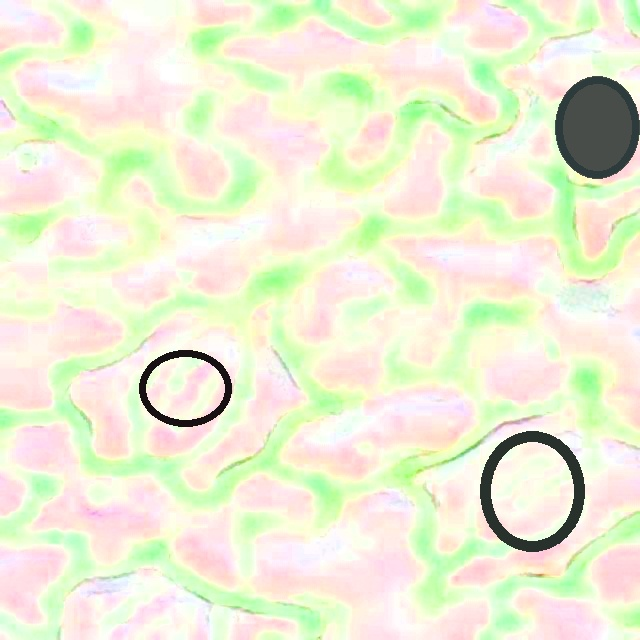close: (479, 431, 586, 551)
open: (555, 76, 639, 178), (138, 349, 231, 427)
